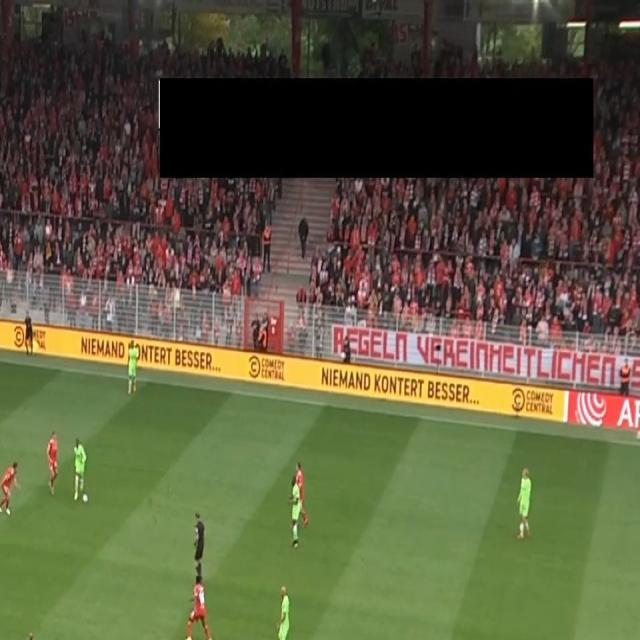ball: (82, 492, 89, 505)
